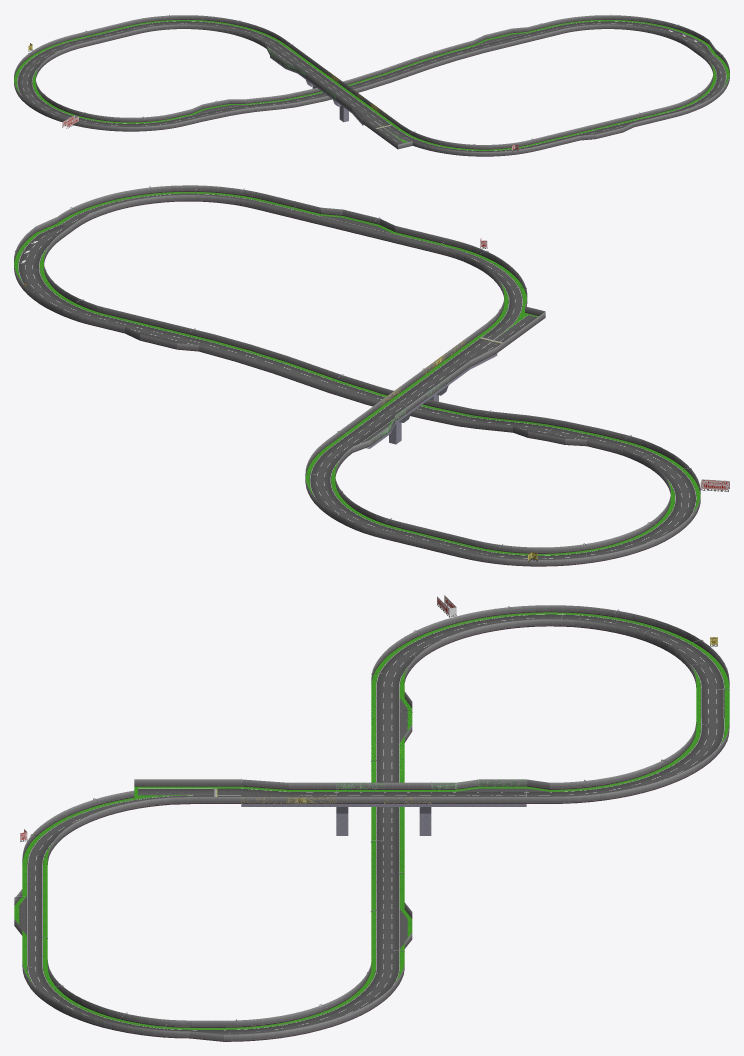
The model's file is toadsturpika.fbx.
3 views of the same model, one above another, from view 1: azimuth 30°, elevation 25°; view 2: azimuth 150°, elevation 25°; view 3: azimuth 270°, elevation 25° (orthographic). The views are drawn at different scales.
Parts seen in each view (by area): view 1: MARIOKART64 (n64_scene.16).006, MARIOKART64 (n64_scene.16).011, MARIOKART64 (n64_scene.16).009, MARIOKART64 (n64_scene.16).013, MARIOKART64 (n64_scene.16).005, MARIOKART64 (n64_scene.16).012, MARIOKART64 (n64_scene.16).010; view 2: MARIOKART64 (n64_scene.16).006, MARIOKART64 (n64_scene.16).011, MARIOKART64 (n64_scene.16).009, MARIOKART64 (n64_scene.16).013, MARIOKART64 (n64_scene.16).005, MARIOKART64 (n64_scene.16).003, MARIOKART64 (n64_scene.16).010; view 3: MARIOKART64 (n64_scene.16).006, MARIOKART64 (n64_scene.16).011, MARIOKART64 (n64_scene.16).009, MARIOKART64 (n64_scene.16).013, MARIOKART64 (n64_scene.16).005, MARIOKART64 (n64_scene.16).012, MARIOKART64 (n64_scene.16).003.
Part boxes in pixels (<box>): MARIOKART64 (n64_scene.16).006: <box>14,15,729,156</box>; MARIOKART64 (n64_scene.16).011: <box>17,21,669,126</box>; MARIOKART64 (n64_scene.16).009: <box>14,20,729,150</box>; MARIOKART64 (n64_scene.16).013: <box>368,46,726,151</box>; MARIOKART64 (n64_scene.16).005: <box>15,14,726,150</box>; MARIOKART64 (n64_scene.16).012: <box>194,33,712,122</box>; MARIOKART64 (n64_scene.16).010: <box>665,29,705,47</box>; MARIOKART64 (n64_scene.16).006: <box>14,185,700,566</box>; MARIOKART64 (n64_scene.16).011: <box>18,263,696,559</box>; MARIOKART64 (n64_scene.16).009: <box>14,192,700,555</box>; MARIOKART64 (n64_scene.16).013: <box>46,193,536,350</box>; MARIOKART64 (n64_scene.16).005: <box>15,186,694,560</box>; MARIOKART64 (n64_scene.16).003: <box>19,192,695,555</box>; MARIOKART64 (n64_scene.16).010: <box>18,234,55,264</box>; MARIOKART64 (n64_scene.16).006: <box>14,605,729,1041</box>; MARIOKART64 (n64_scene.16).011: <box>241,614,724,1027</box>; MARIOKART64 (n64_scene.16).009: <box>14,612,729,1029</box>; MARIOKART64 (n64_scene.16).013: <box>27,788,241,1034</box>; MARIOKART64 (n64_scene.16).005: <box>14,606,729,1030</box>; MARIOKART64 (n64_scene.16).012: <box>19,698,548,948</box>; MARIOKART64 (n64_scene.16).003: <box>19,613,722,1029</box>.
Size of the model in its own units: 642900 by 36900 by 451600.
Materials: 19 (19 with a texture image).
